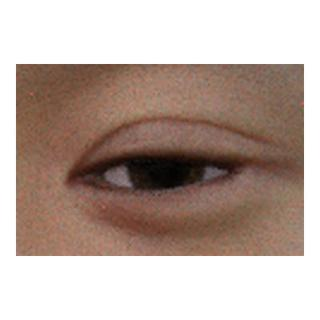pupil: (147, 145, 186, 184)
